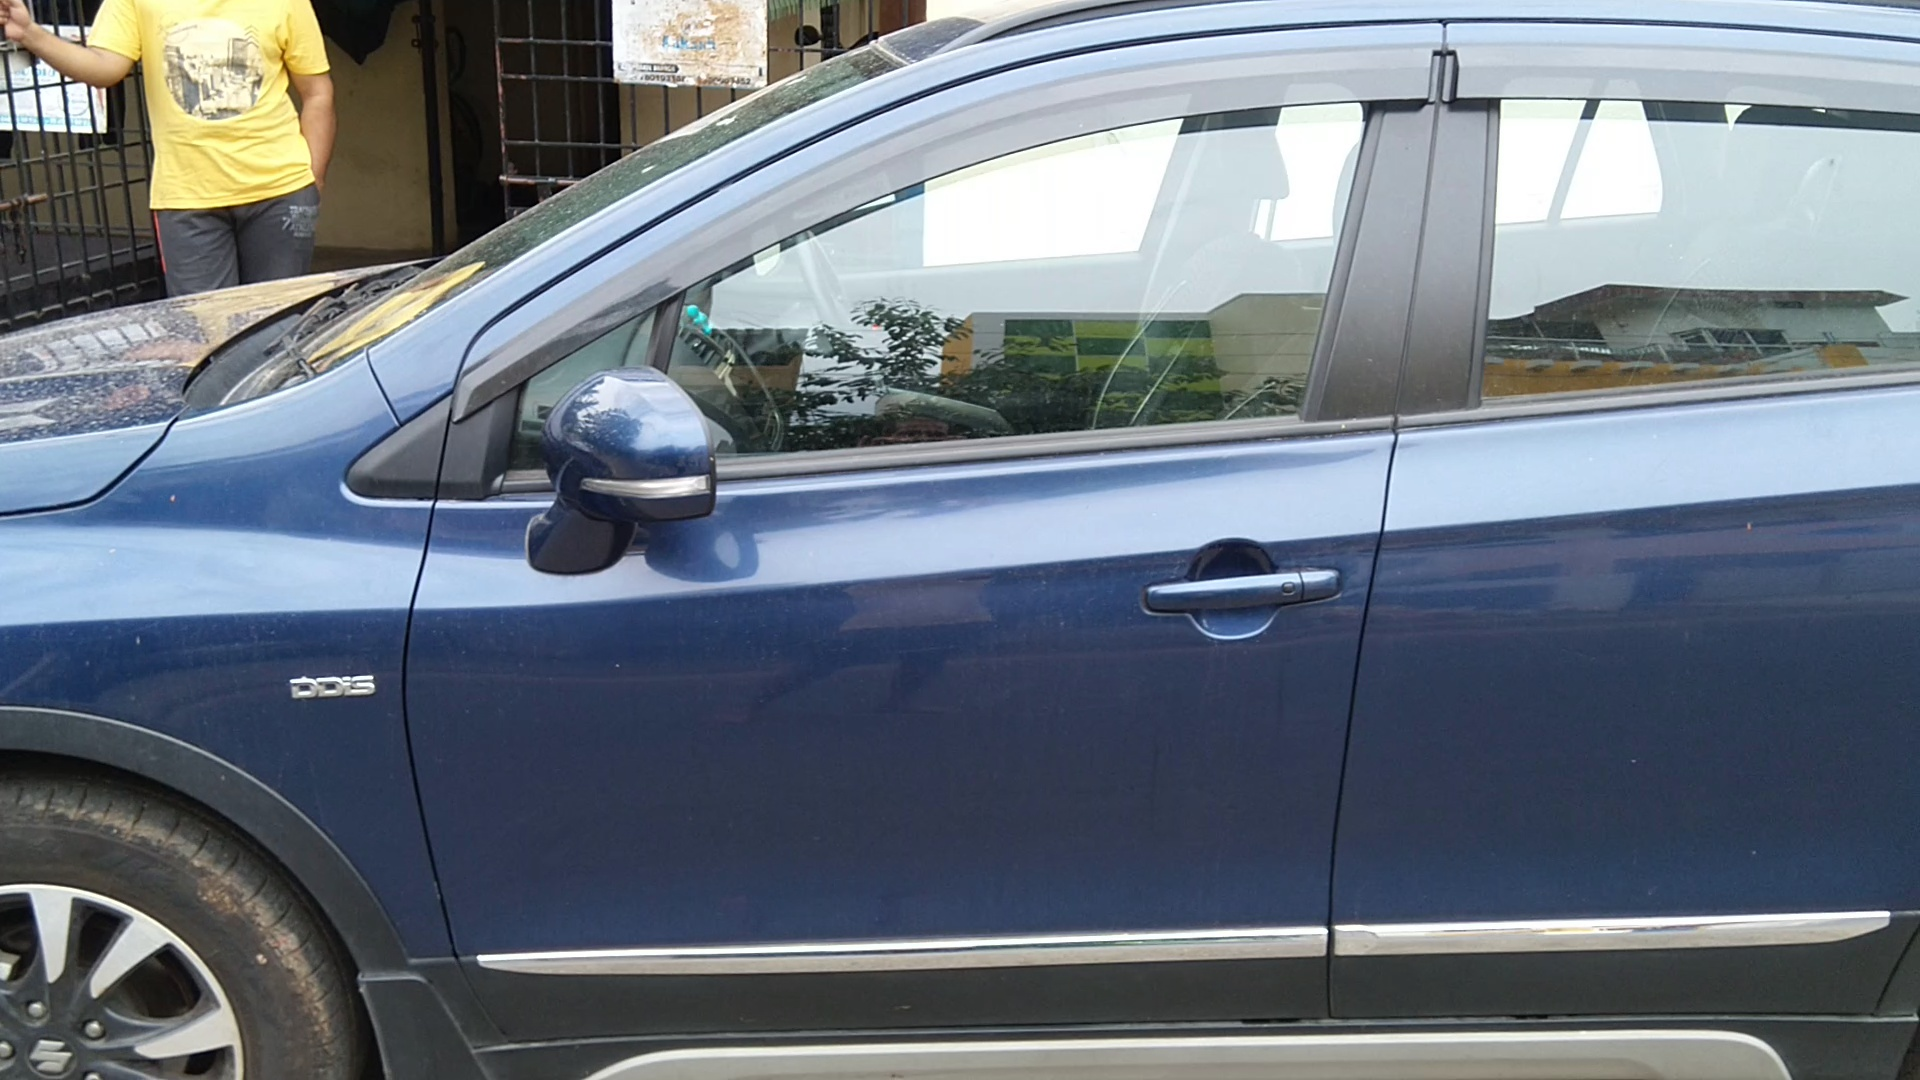ovr_mirror: (509, 355, 735, 600)
